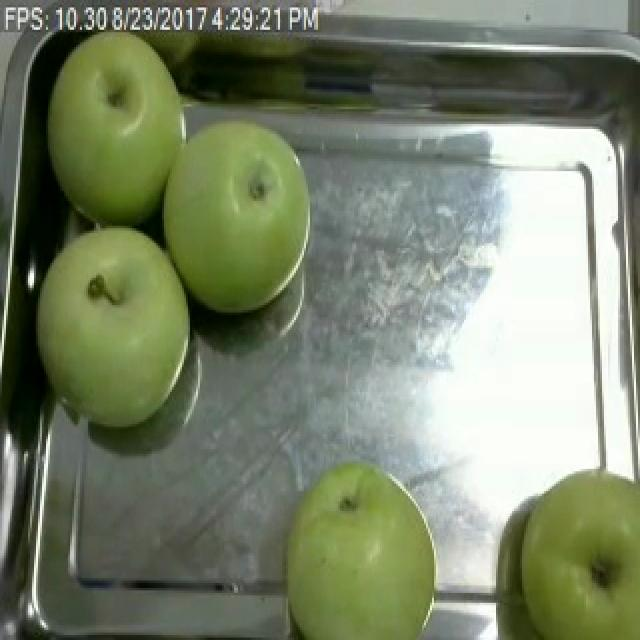50-_ripeness: (277, 457, 442, 640), (45, 228, 193, 432), (160, 123, 310, 302), (48, 34, 179, 203), (520, 470, 640, 639)
